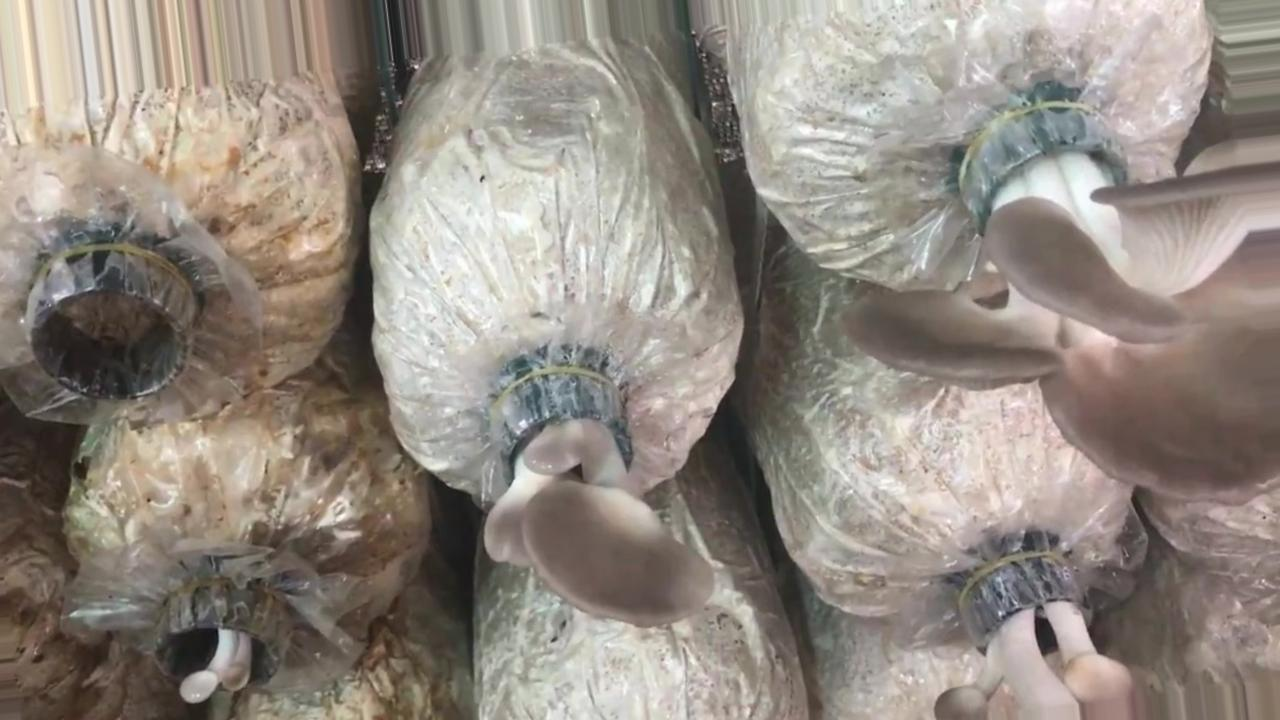nam: (845, 103, 1274, 499), (484, 364, 713, 630), (937, 543, 1132, 720), (155, 592, 292, 703)
